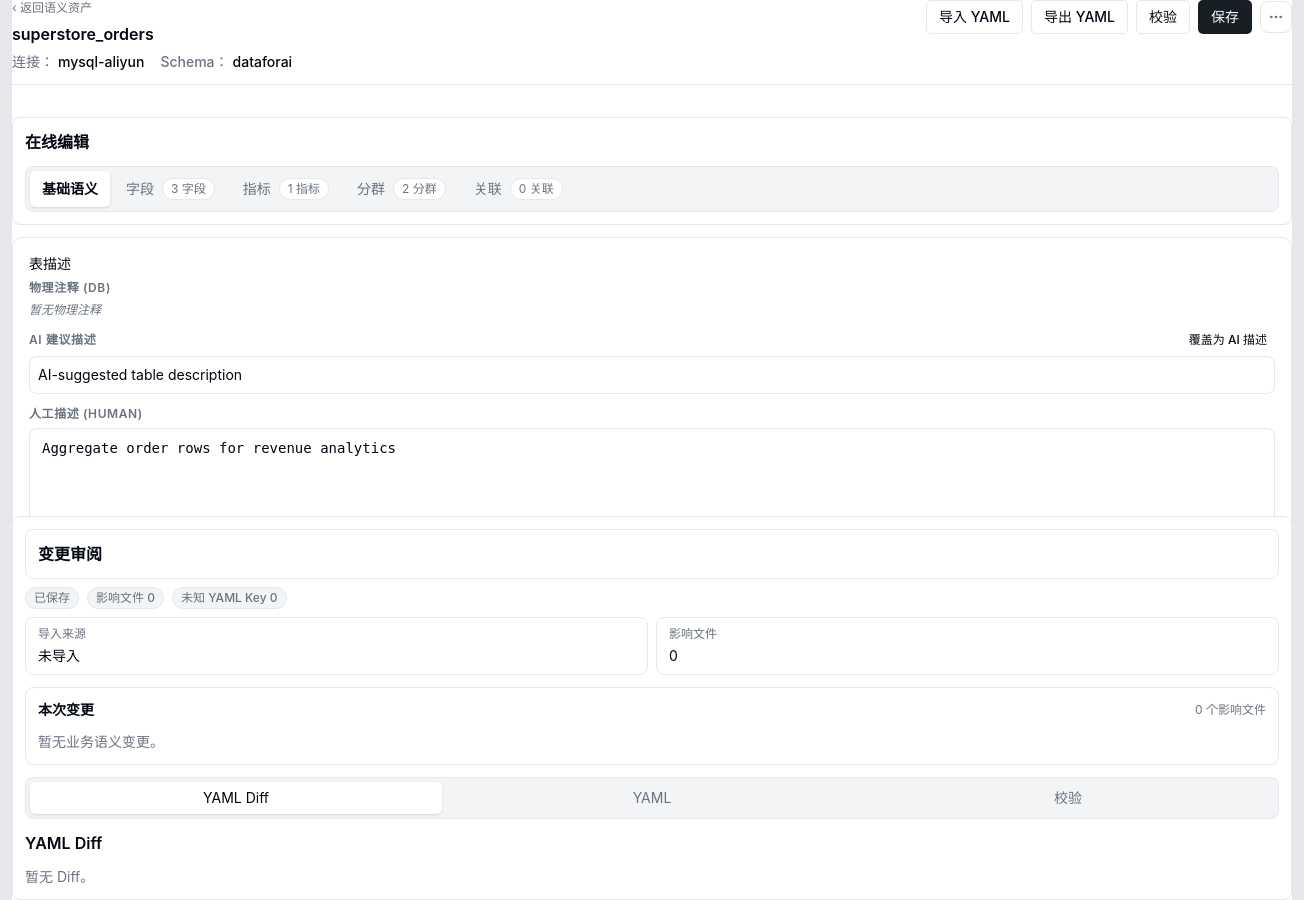
Test case: TableEditor › runs Validate from the page header and shows the result in change details
This screenshot has width=1304, height=900.
Click the button "校验" at (1163, 17), box [1136,0,1190,34]
(page scrolled)
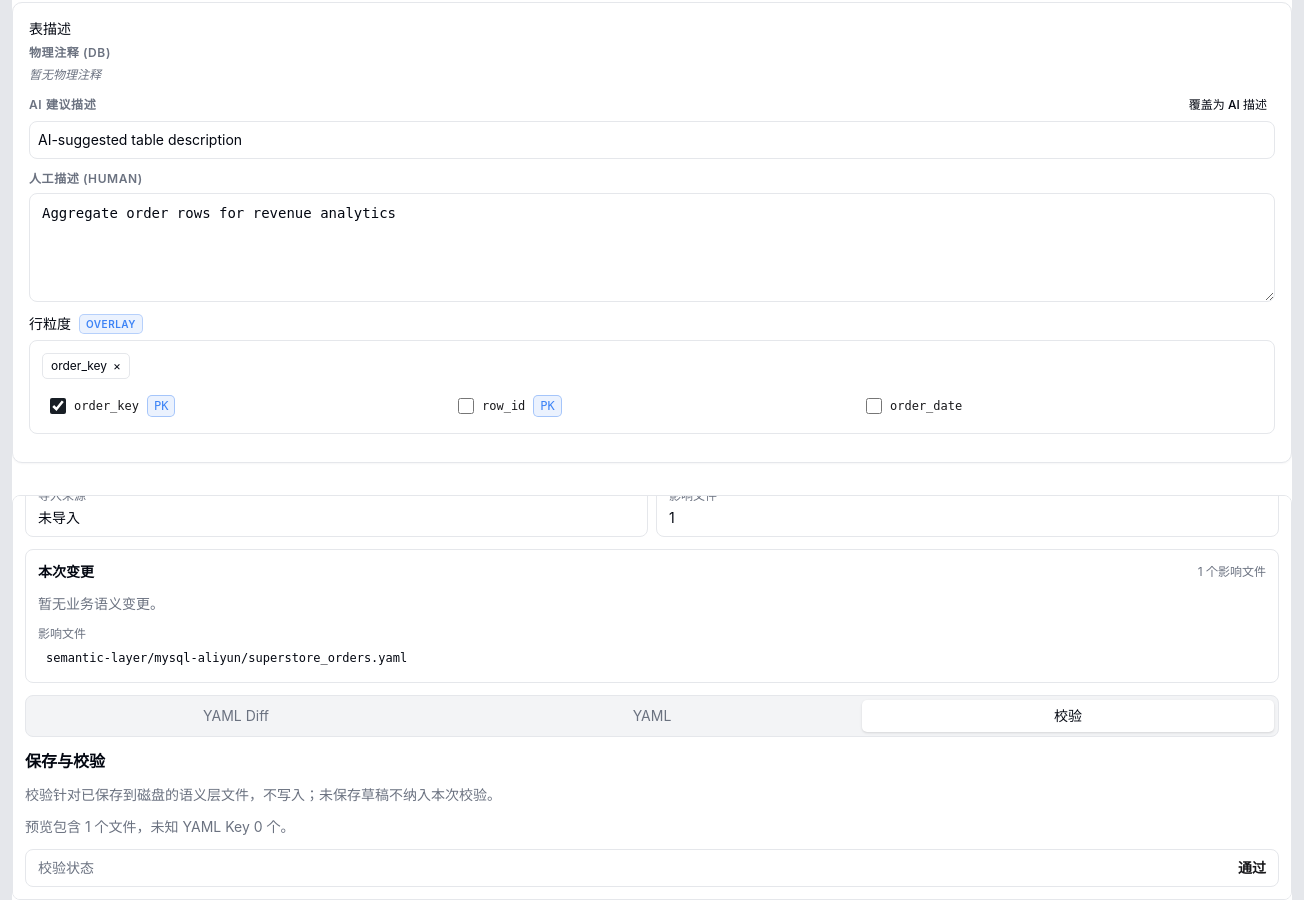
Expected: the element with test id "table-editor-validation-result" does not show "Exit Code", [25,849,1279,887]
Result: the element with test id "table-editor-validation-result" shows "校验状态" at [38,859,94,876]
Result: the element with test id "table-editor-validation-result" shows "通过" at [1238,859,1266,876]
